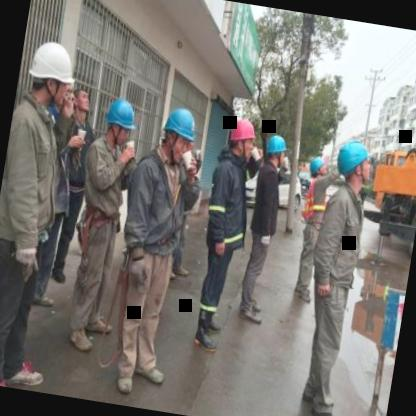head: (66, 83, 96, 119)
helmet: (22, 34, 80, 114), (154, 100, 200, 168), (329, 134, 376, 188), (100, 93, 139, 150), (227, 117, 260, 161), (259, 130, 290, 171), (306, 152, 328, 180)
